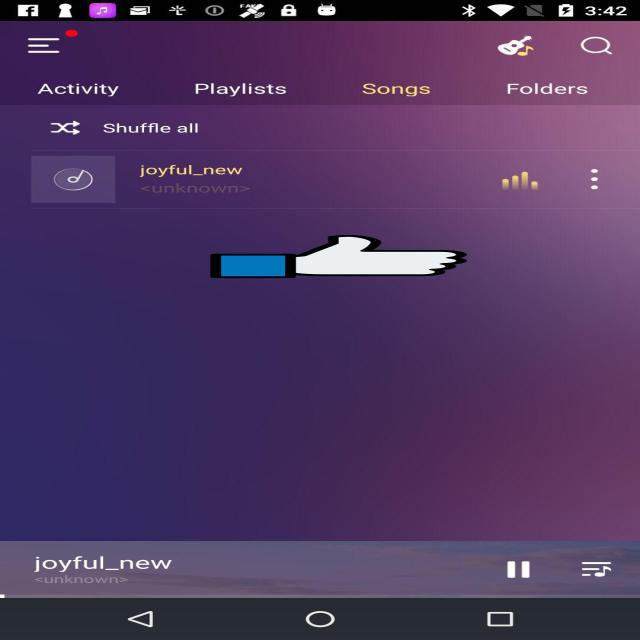privacy zuckering: (210, 234, 467, 279)
